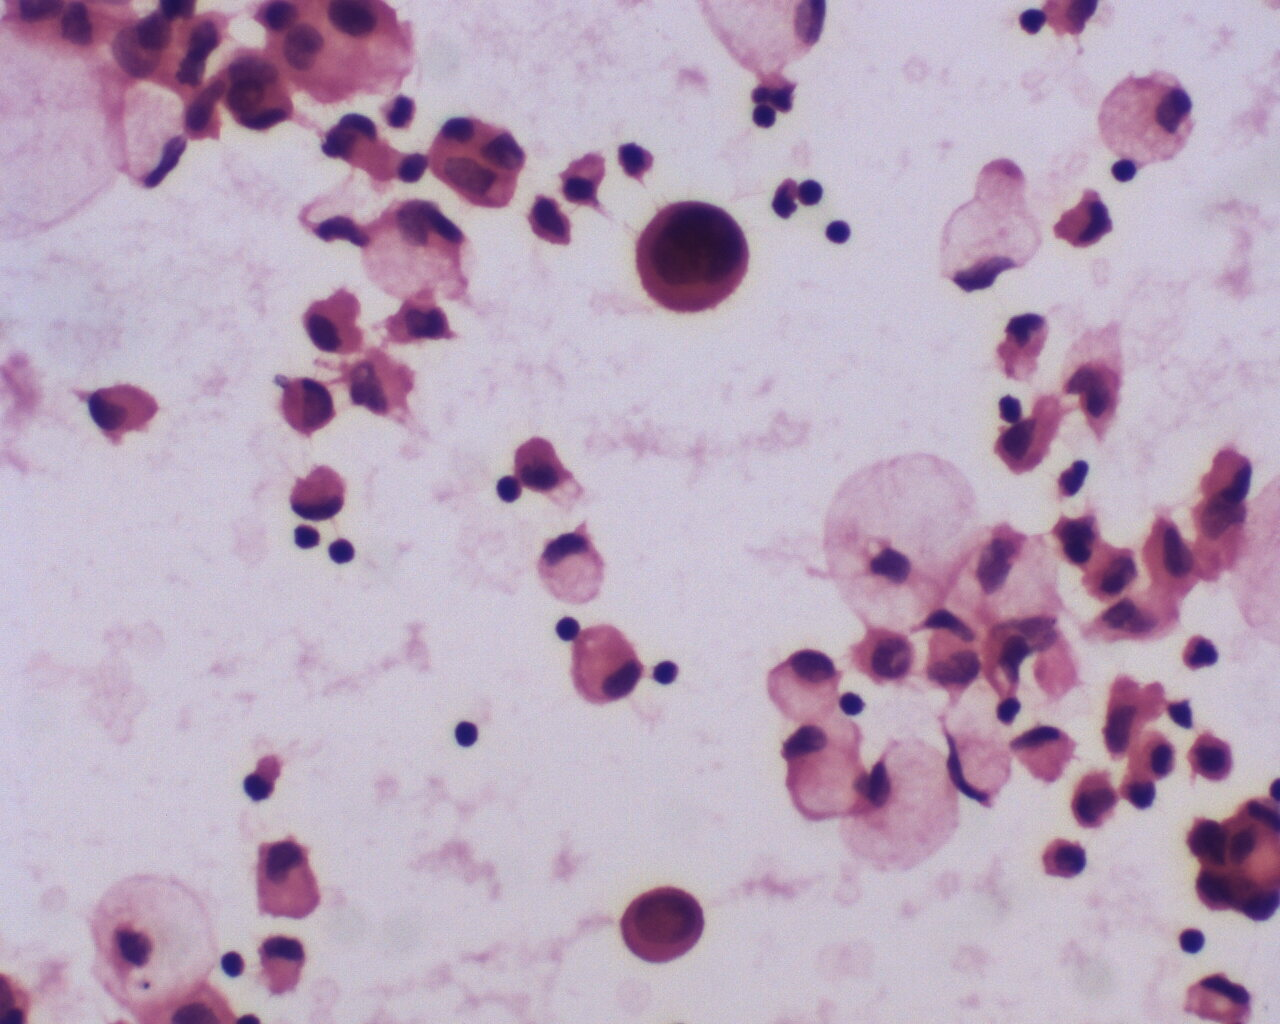ab: (629, 191, 760, 323), (620, 875, 717, 971)
histo: (823, 444, 982, 639), (850, 736, 961, 869), (1099, 63, 1194, 169), (762, 638, 841, 723), (534, 529, 616, 607)
lymph: (649, 654, 686, 694), (819, 209, 852, 253), (449, 715, 487, 752), (324, 532, 356, 569), (1176, 925, 1207, 955)
meso: (568, 622, 645, 706), (302, 280, 376, 364), (1130, 725, 1178, 787), (1182, 734, 1240, 784)
